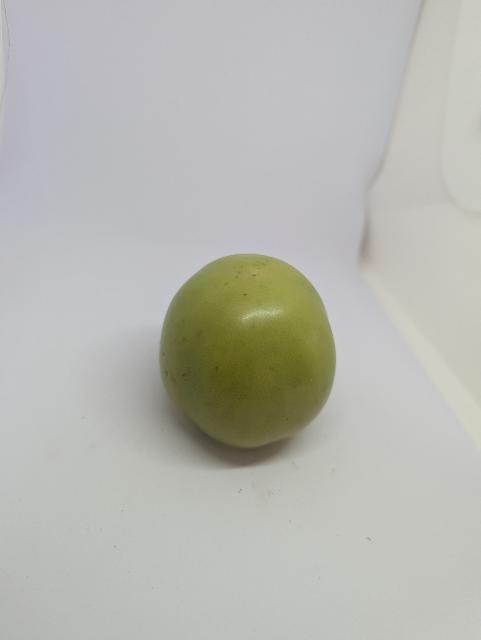green: (156, 238, 343, 478)
